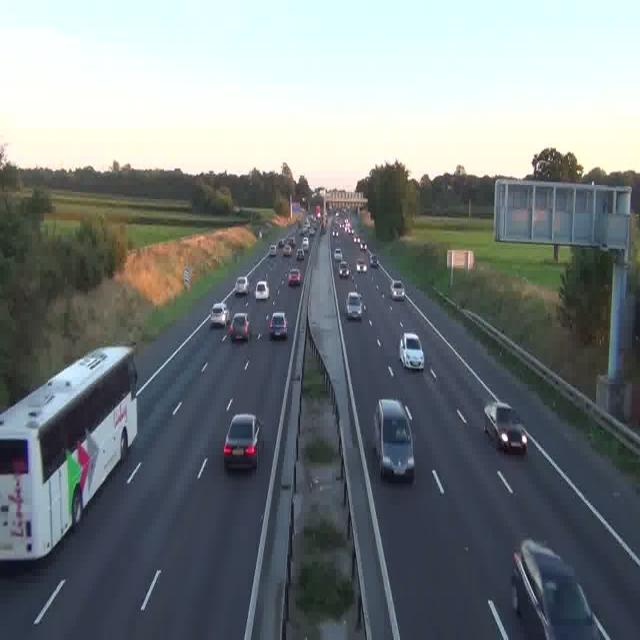bus: (0, 347, 136, 558)
car: (512, 539, 600, 640), (375, 398, 415, 481), (482, 402, 528, 453), (224, 414, 261, 469), (400, 332, 424, 369), (230, 313, 250, 342), (269, 311, 289, 338), (210, 303, 229, 328), (346, 293, 362, 319), (390, 282, 404, 301), (254, 280, 268, 299), (234, 277, 248, 296), (289, 270, 301, 286), (339, 263, 351, 278), (355, 259, 366, 273), (368, 252, 378, 266), (334, 248, 344, 261), (268, 244, 278, 257), (296, 249, 305, 262), (283, 244, 291, 257)
